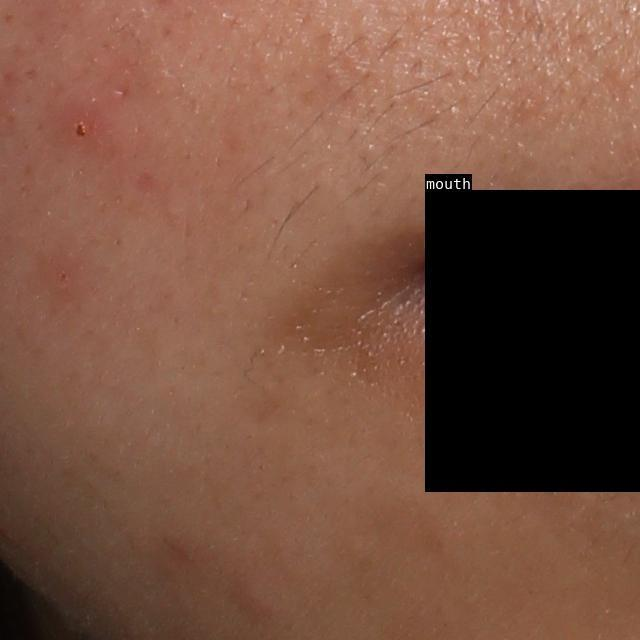papule: (59, 108, 98, 145)
